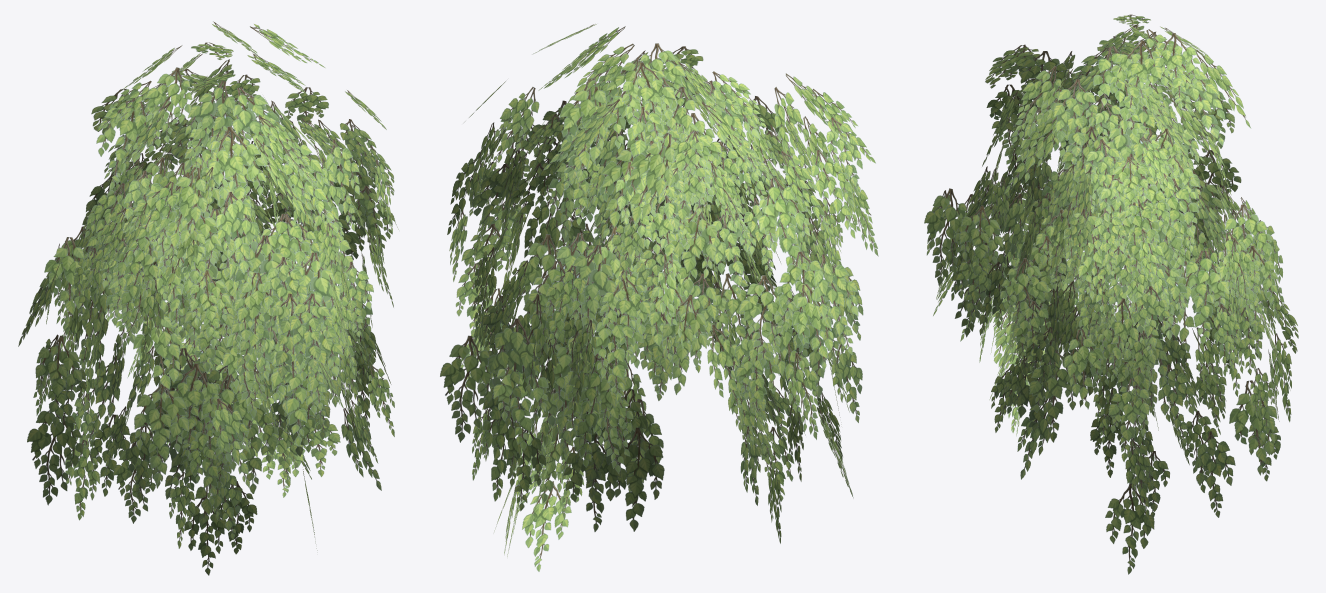
File: tree_birch_leaves.glb
The picture shows the model from 3 angles, left to right: view 1: azimuth 30°, elevation 25°; view 2: azimuth 150°, elevation 25°; view 3: azimuth 270°, elevation 25°; orthographic projection. The views are drawn at different scales.
Visible parts, largest first — view 1: tree_birch_leaves; view 2: tree_birch_leaves; view 3: tree_birch_leaves.
Boxes of the visible parts, x1,y1,x2,y2 form: tree_birch_leaves: (18,21,398,575); tree_birch_leaves: (440,24,878,571); tree_birch_leaves: (924,14,1298,574).
Bounding box in the file's own units: 5.25 × 6.98 × 4.94.
Materials: 1 (1 with a texture image).
